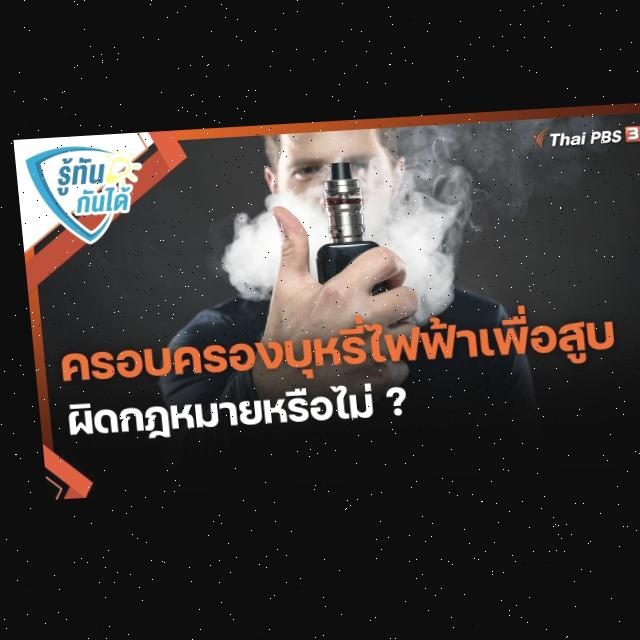vape: (304, 162, 383, 287)
